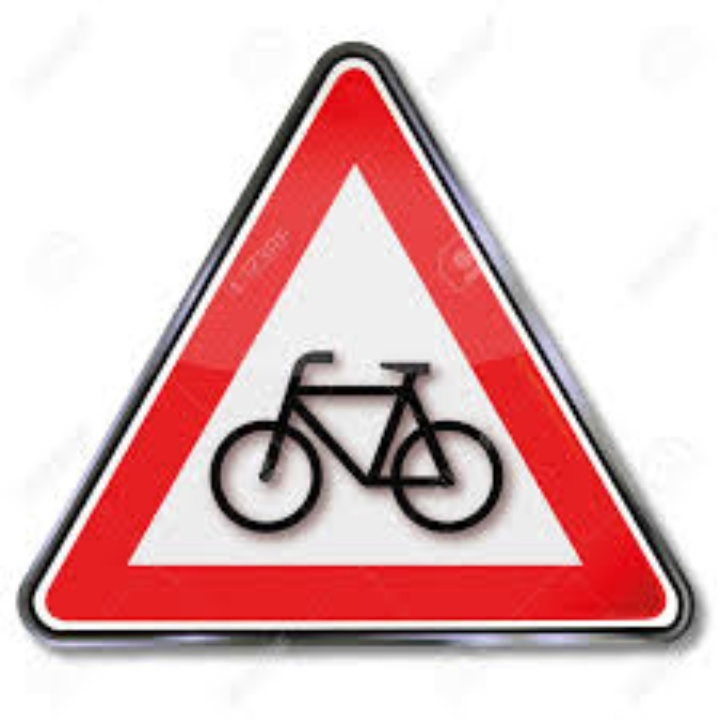bicycle: (207, 301, 507, 601)
